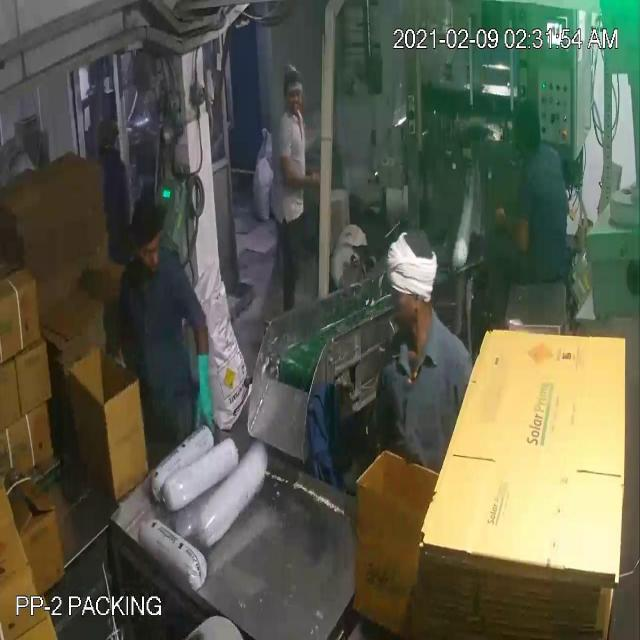Gloves: (42, 54, 509, 389)
